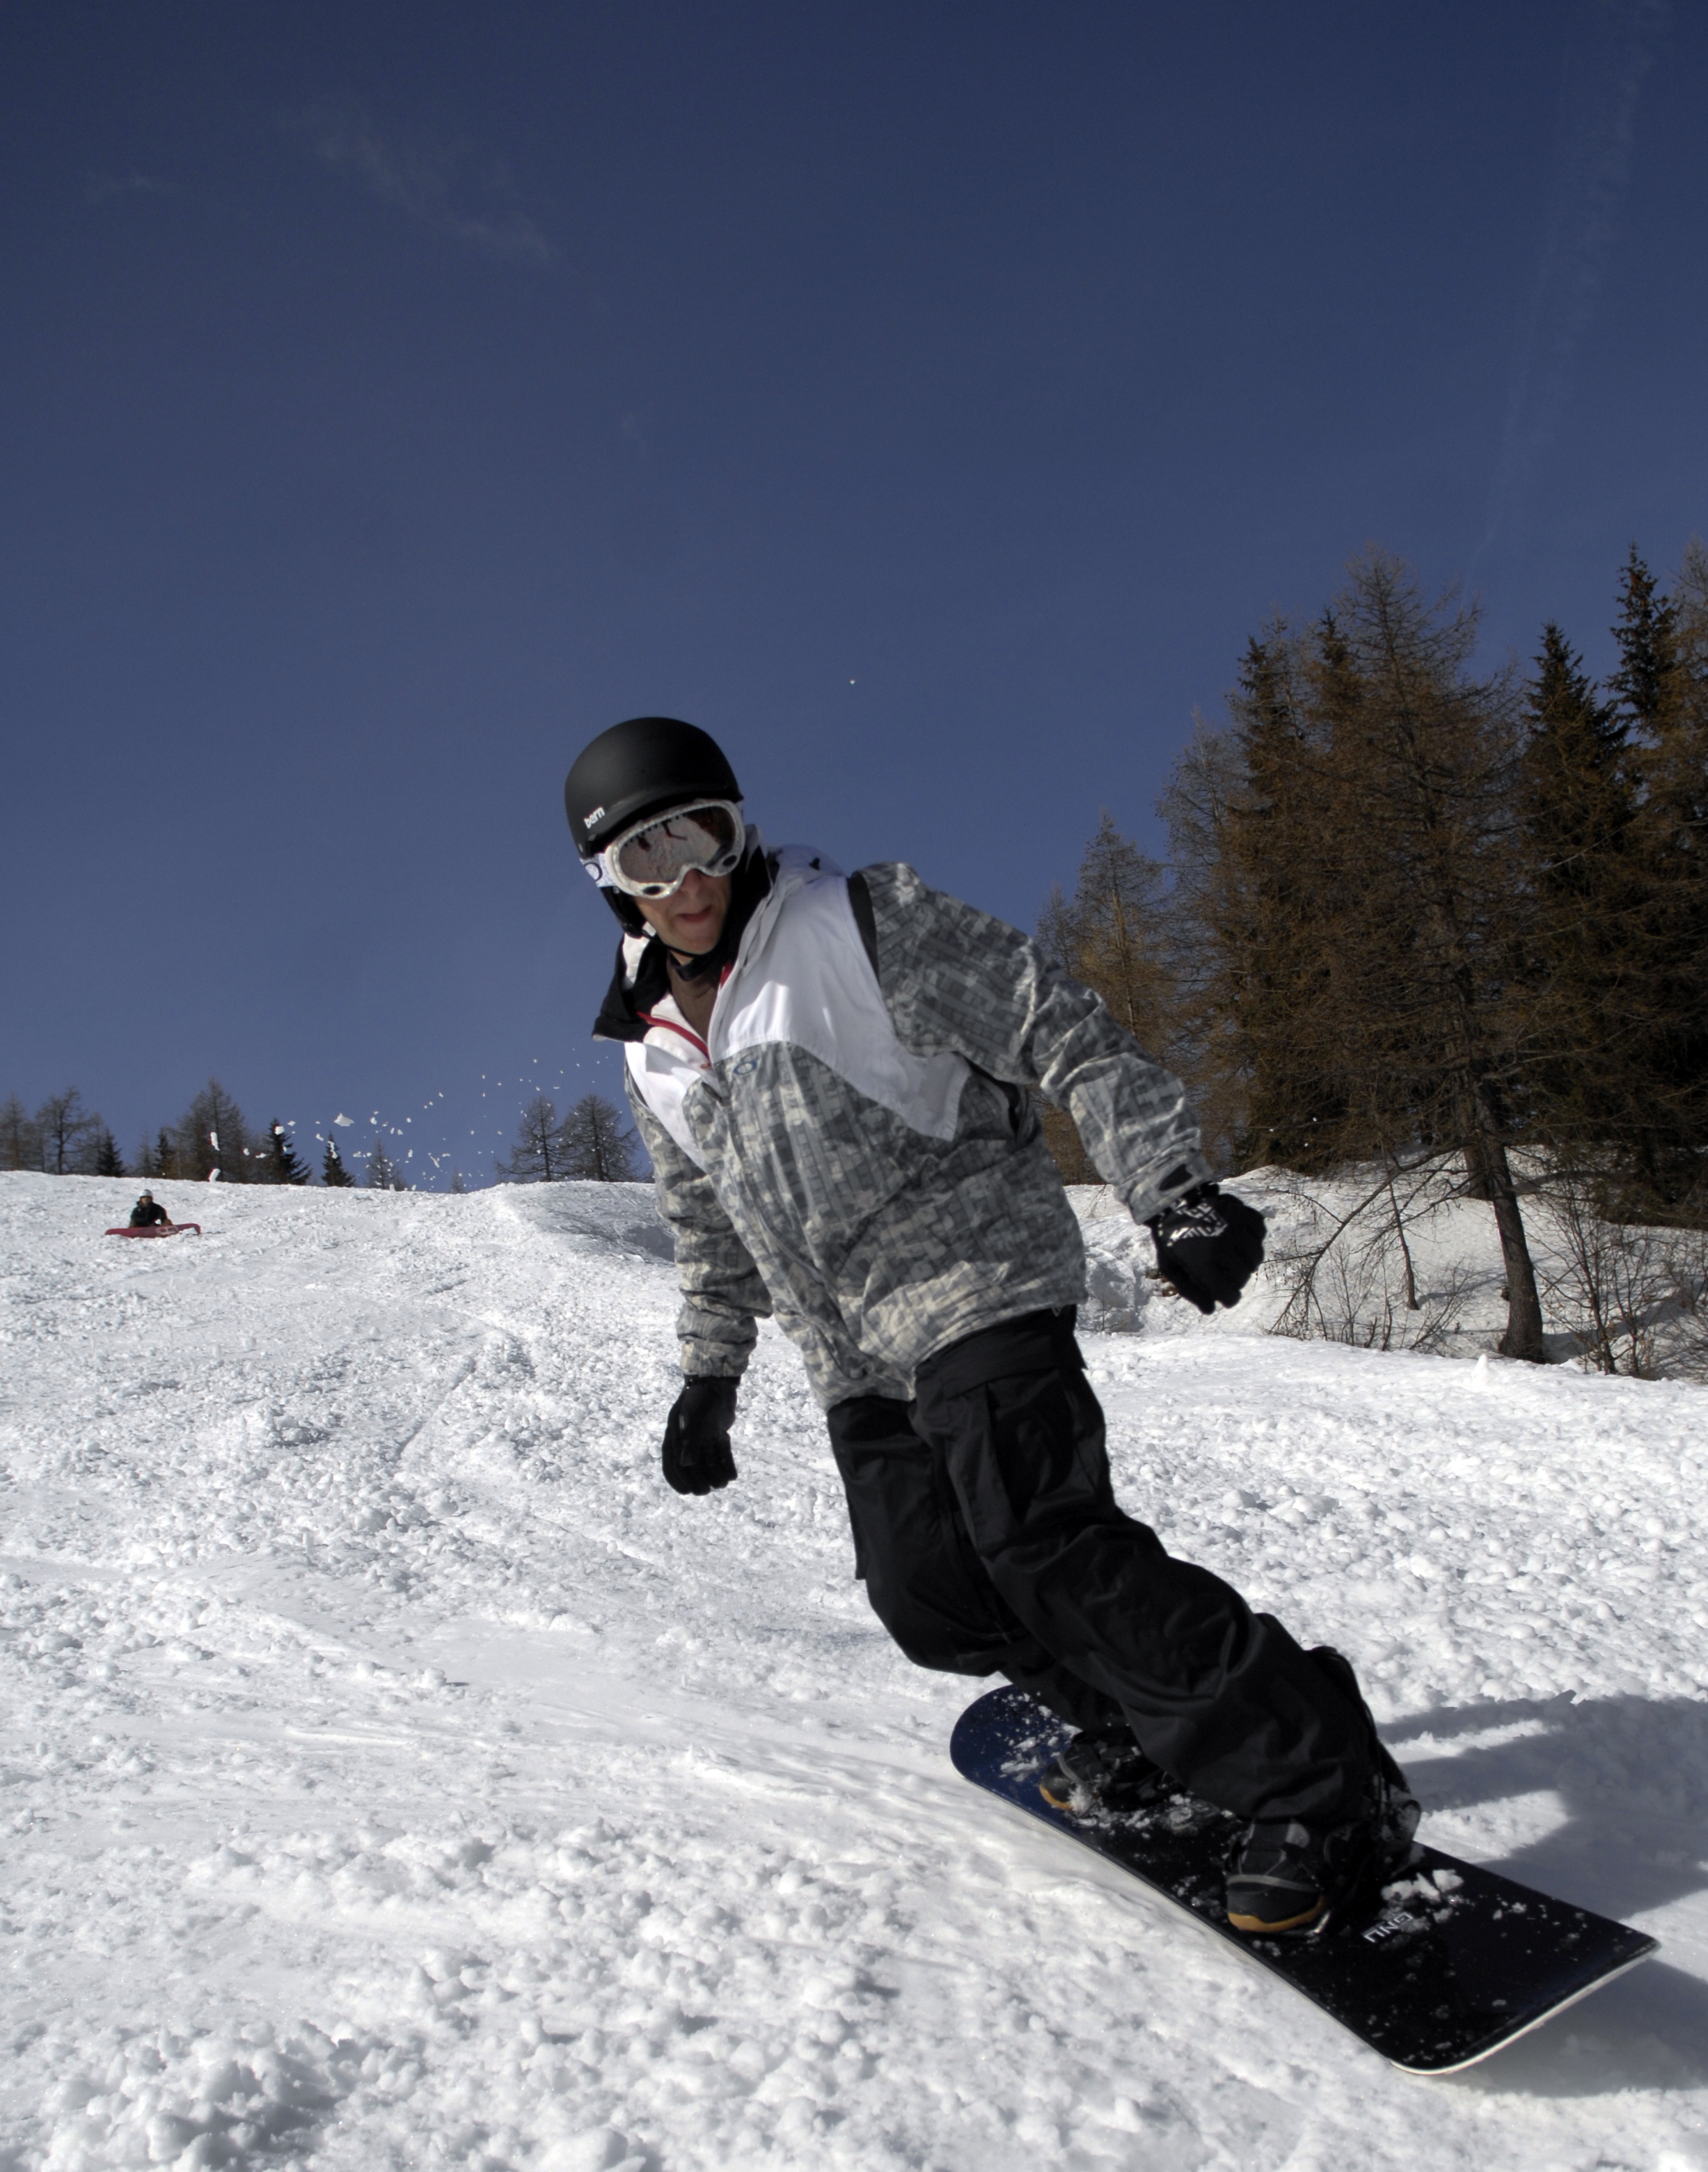snowboarder: (566, 707, 1662, 2087)
